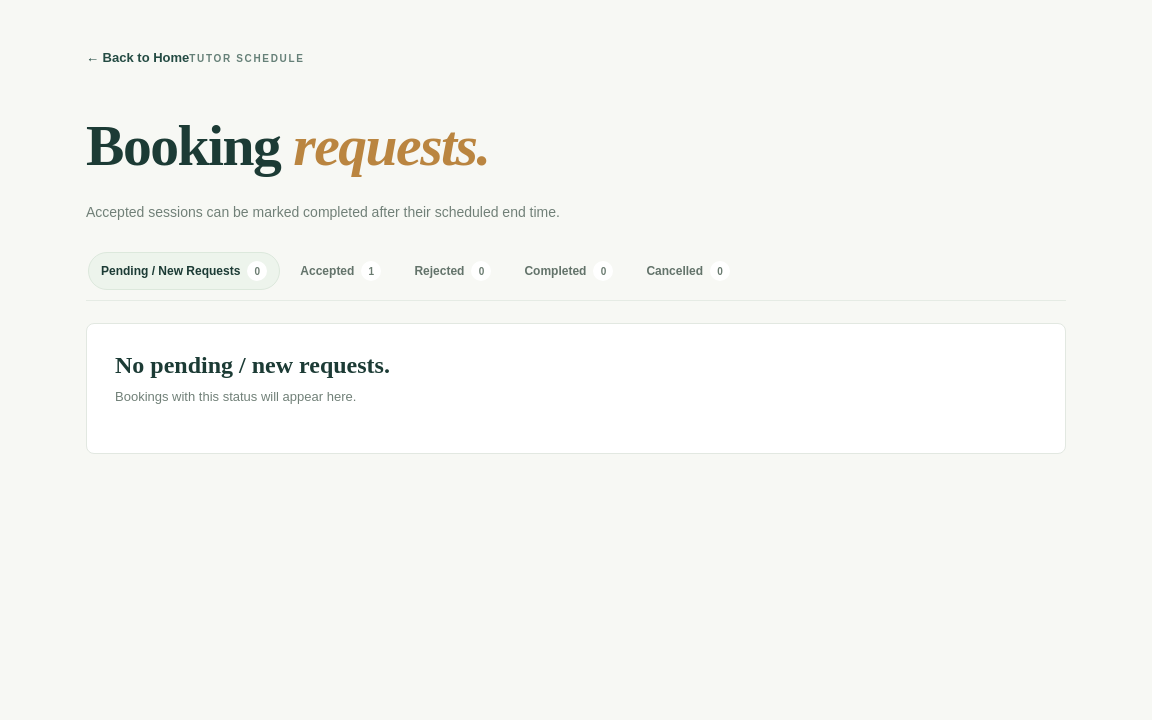
Scenario: tutor booking requests page › shows completion only for an accepted session that has ended and refreshes its status
The width and height of the screenshot is (1152, 720).
Click the tab "Accepted 1" at (341, 271), box [287,252,394,290]
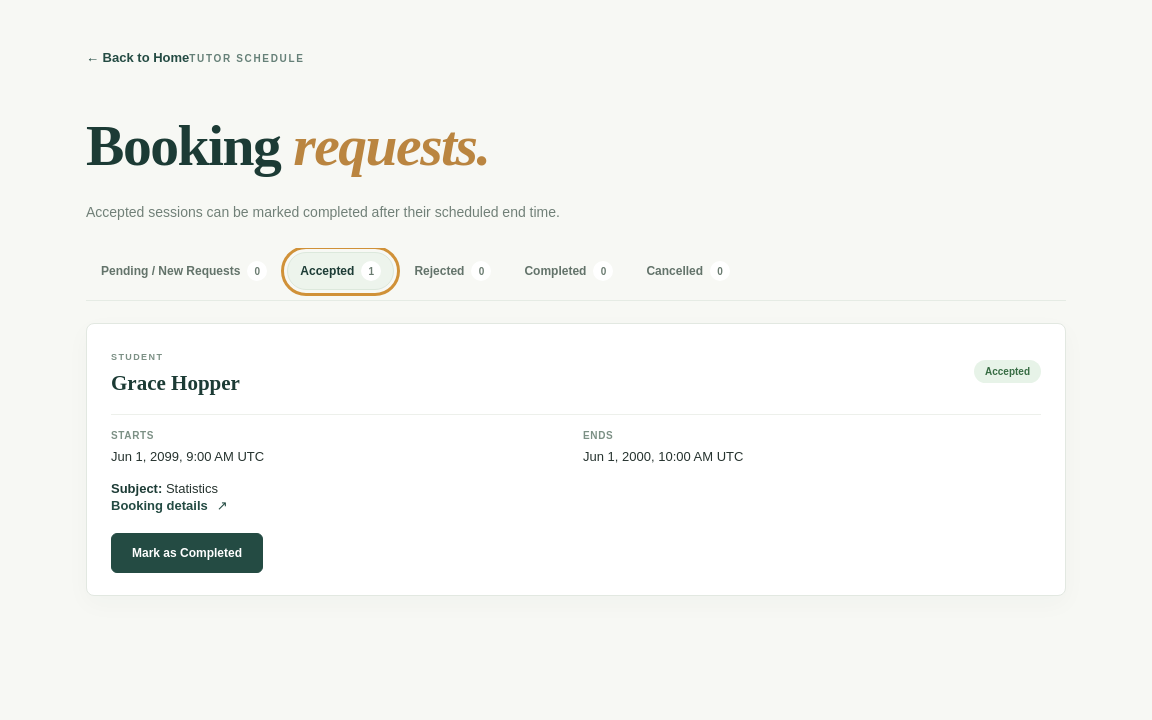
Click the button "Mark as Completed" at (187, 553), box [111,533,263,573]
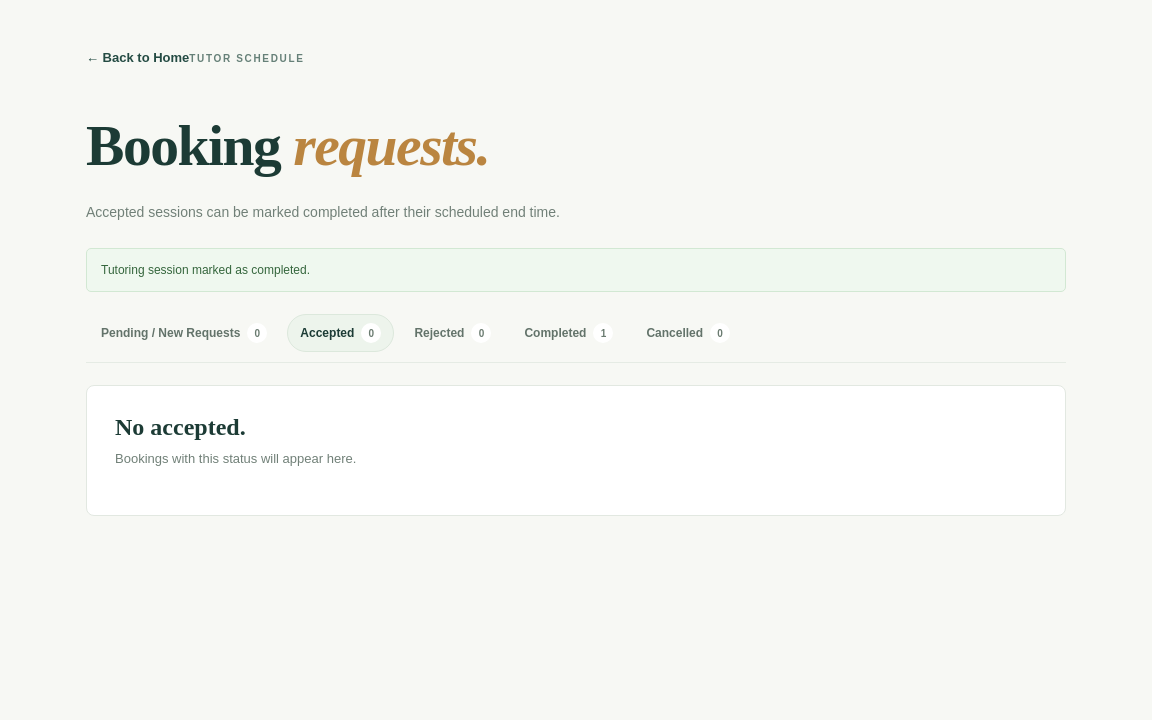
Expected: the text "Tutoring session marked as completed." is shown, [86,248,1066,292]
Click the tab "Completed 1" at (569, 333), box [511,314,626,352]
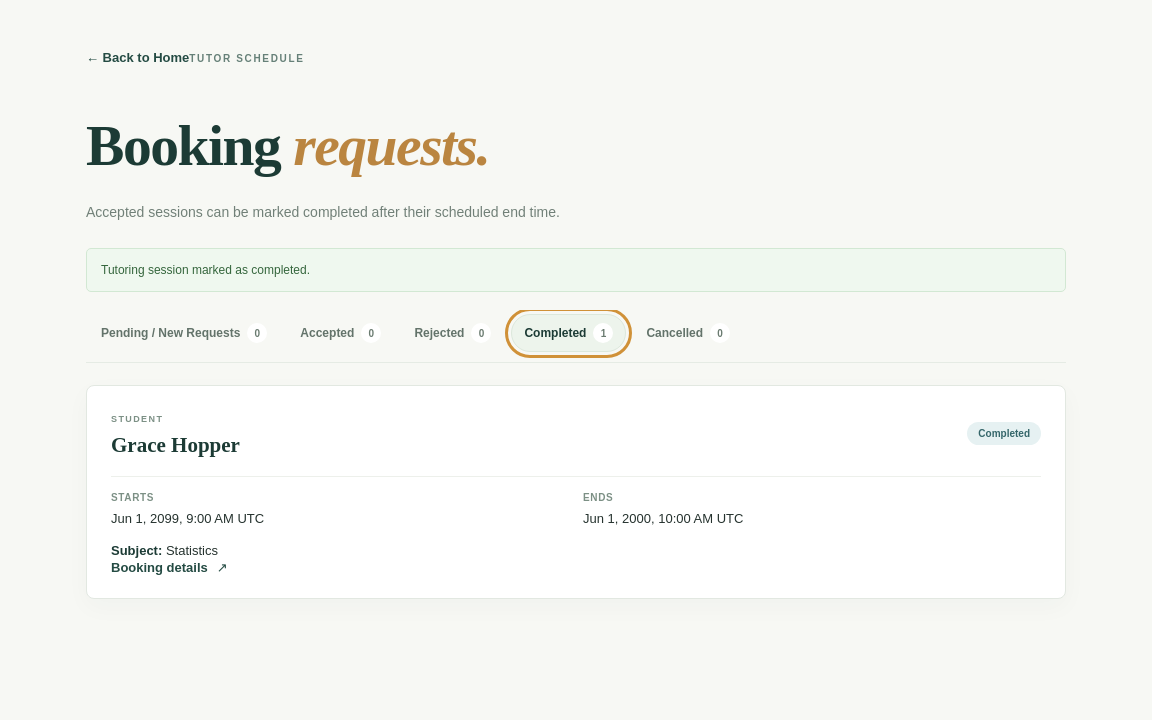
Expected: the button "Mark as Completed" is not shown
Expected: the text "Completed" is shown, [967,422,1041,445]
